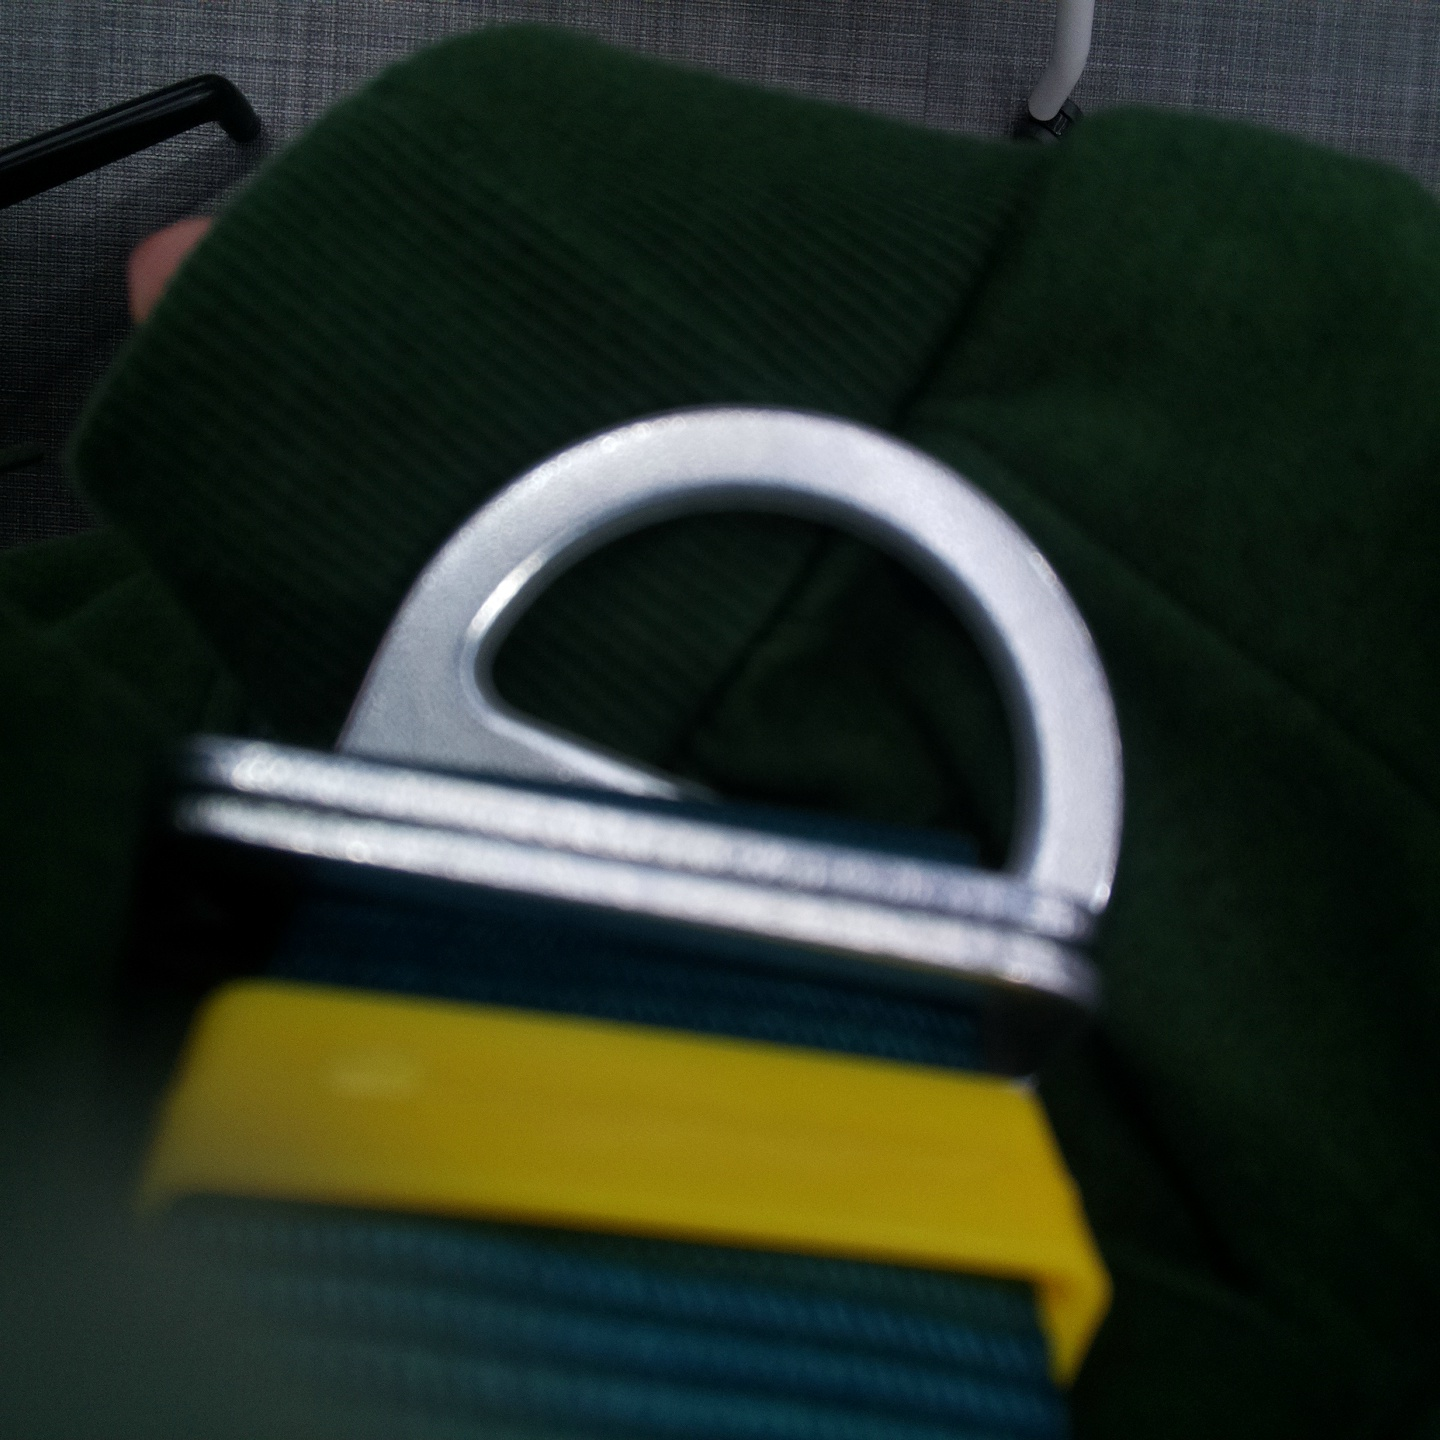UNSUCCESS: (338, 398, 1143, 901)
